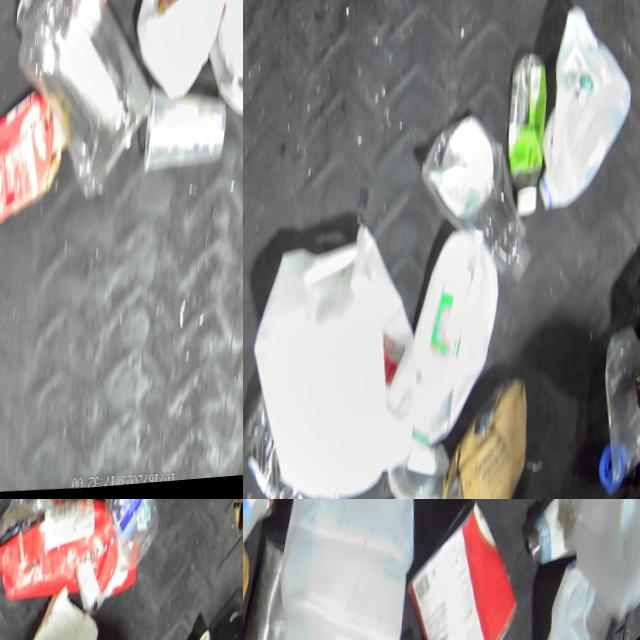can: (401, 503, 522, 640), (142, 73, 231, 185)
milk_jug: (251, 223, 415, 499), (267, 499, 427, 640), (132, 0, 243, 114), (570, 499, 640, 629), (538, 556, 613, 640)
non_white_jug: (0, 503, 140, 616), (0, 94, 72, 260)
plastic_bottle: (2, 0, 159, 223), (421, 121, 538, 296), (104, 499, 168, 581)
